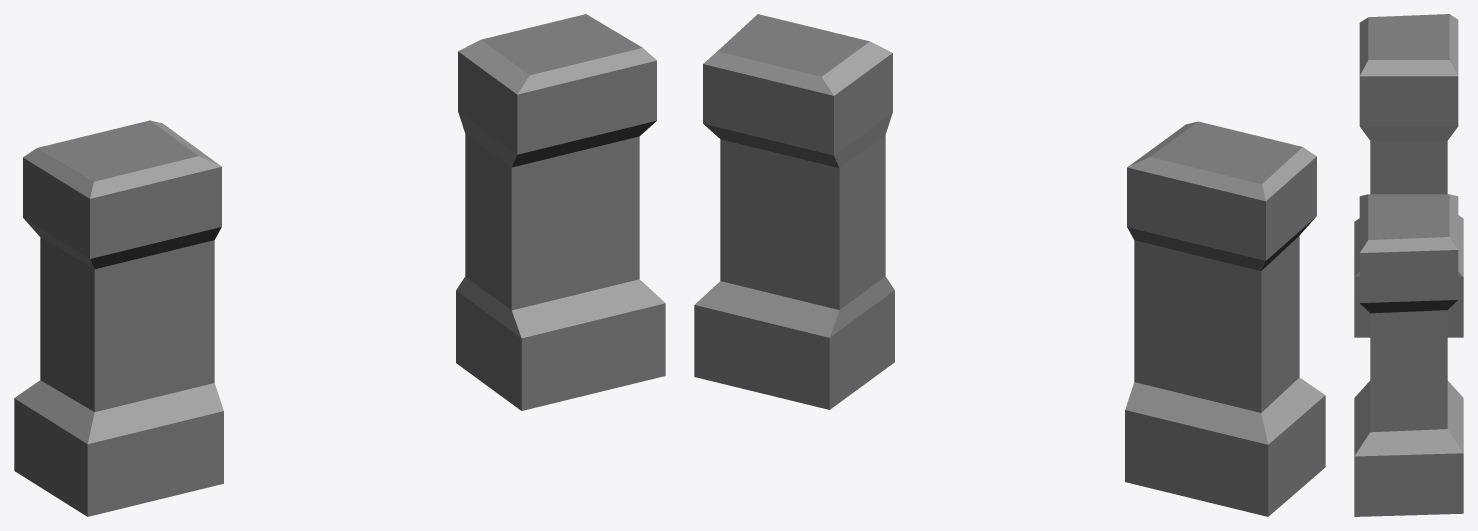
The model's file is pillars.obj.
3 views of the same model, side by side, from view 1: azimuth 30°, elevation 25°; view 2: azimuth 150°, elevation 25°; view 3: azimuth 270°, elevation 25° (orthographic). The views are drawn at different scales.
Visible parts, largest first — view 1: Cube.002; view 2: Cube.002; view 3: Cube.002.
Boxes of the visible parts, <box> form: Cube.002: <box>14,14,665,516</box>; Cube.002: <box>694,14,1325,516</box>; Cube.002: <box>1354,14,1463,516</box>.
Bounding box in the file's own units: 165 × 87.57 × 32.
Materials: 1 (1 with a texture image).
